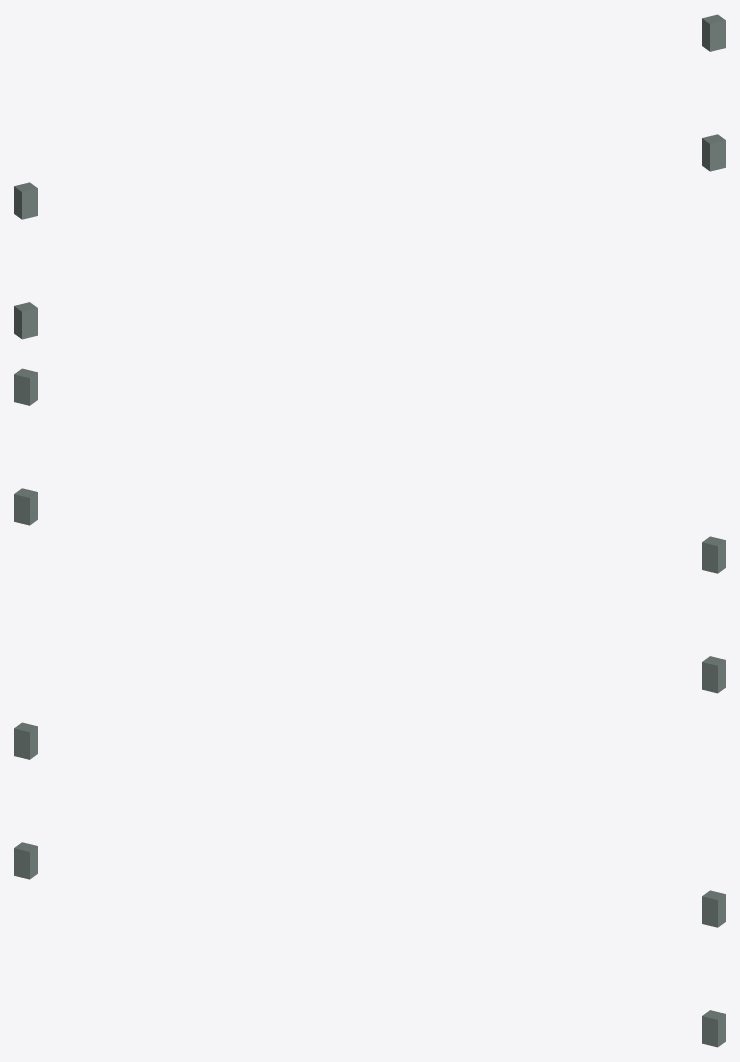
Rendered from SM_PuertaVehiculos_v1_ChapaOndulada_e3_Brecha_LOD1.fbx.
The picture shows the model from 3 angles, top to bottom: view 1: azimuth 30°, elevation 25°; view 2: azimuth 150°, elevation 25°; view 3: azimuth 330°, elevation 25°; orthographic projection.
Visible parts, largest first — view 1: Hoja_E, Hoja_O; view 2: Hoja_E, Hoja_O; view 3: Hoja_E, Hoja_O.
Part boxes in pixels (x1,y1,x2,y2): Hoja_E: (702,14,725,171); Hoja_O: (14,182,37,339); Hoja_E: (14,368,37,525); Hoja_O: (702,536,725,693); Hoja_E: (702,890,725,1047); Hoja_O: (14,722,37,879).
Size of what is drawn, in the model's own units: 8 by 1.6 by 0.16.
